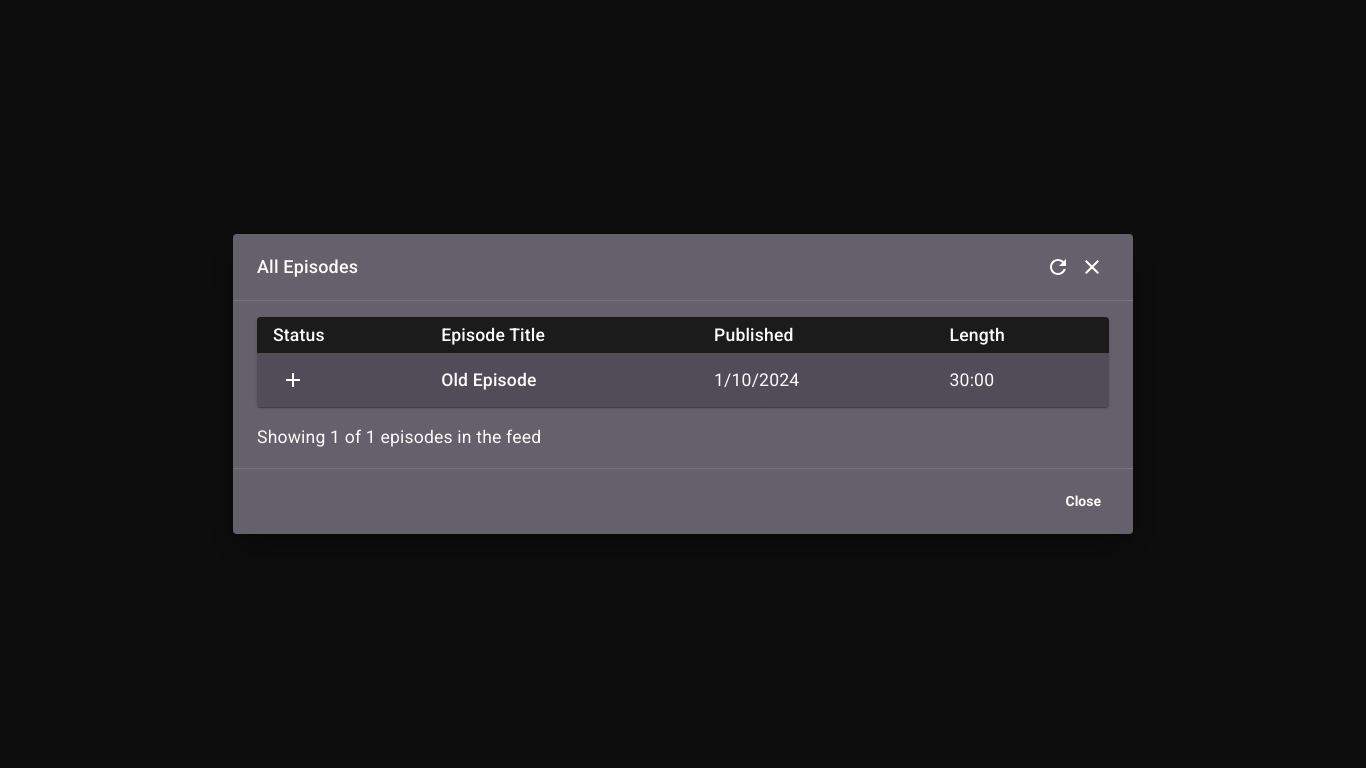
Test: FeedEpisodeBrowserDialog › re-reads the feed with refresh=true and starts again from the first page
The image size is (1366, 768).
expect the text "Old Episode" is shown: met, box [425,354,698,407]
Click the button named "refresh feed" at (1058, 267), box [1041,250,1075,284]
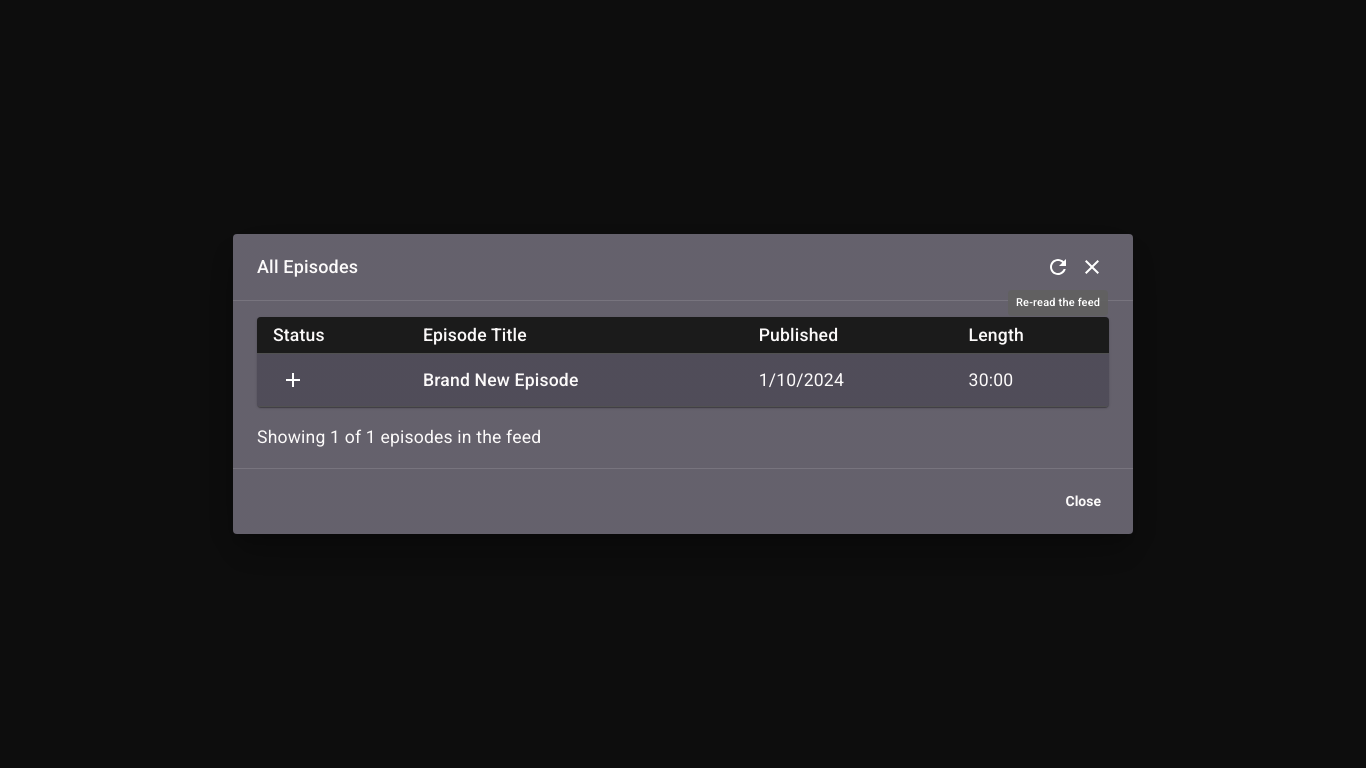
expect the text "Brand New Episode" is shown: met, box [407,354,743,407]
